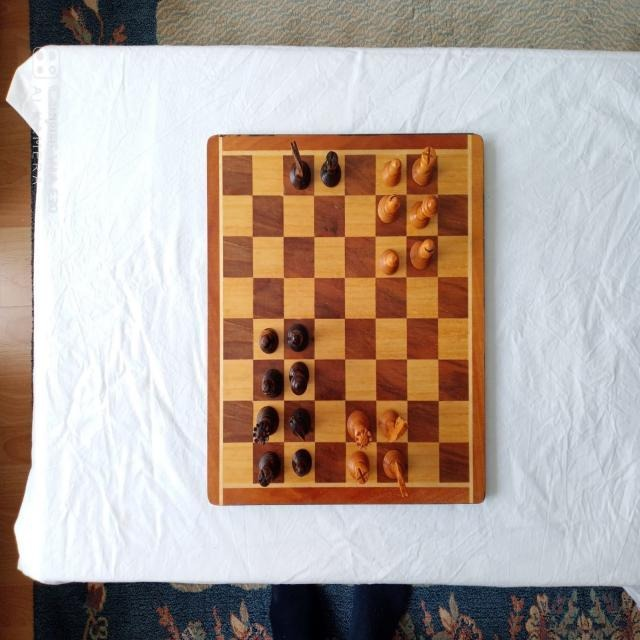black-bishop: (260, 368, 283, 398), (286, 323, 309, 352)
black-king: (288, 361, 309, 395)
black-knight: (289, 138, 312, 189), (288, 408, 311, 440)
black-pawn: (292, 448, 312, 476), (259, 327, 279, 353)
black-queen: (252, 406, 280, 445)
black-rook: (258, 451, 282, 487), (320, 150, 342, 188)
white-bishop: (410, 238, 435, 269), (377, 193, 400, 224)
white-king: (409, 195, 439, 229)
white-knight: (382, 449, 409, 499), (378, 408, 409, 443)
white-pawn: (382, 156, 402, 187), (380, 248, 400, 276)
white-queen: (347, 409, 373, 451)
white-rook: (411, 146, 437, 185), (348, 451, 370, 485)
